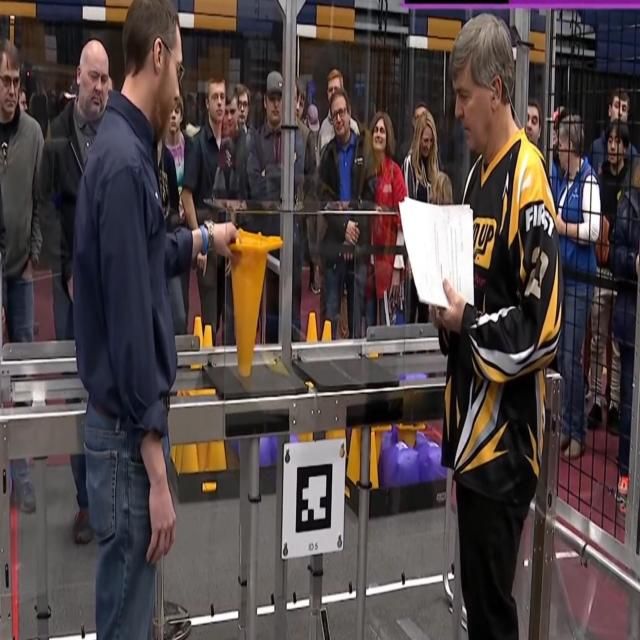frc_cone: (224, 222, 284, 379), (346, 428, 362, 486), (394, 418, 423, 450), (368, 430, 381, 489), (205, 442, 227, 474), (302, 309, 320, 343), (183, 438, 199, 472), (195, 438, 208, 472), (202, 322, 215, 348), (320, 319, 333, 344), (191, 313, 204, 337), (172, 441, 182, 469)
frc_cube: (384, 440, 418, 488), (418, 438, 446, 483), (258, 434, 275, 464)
